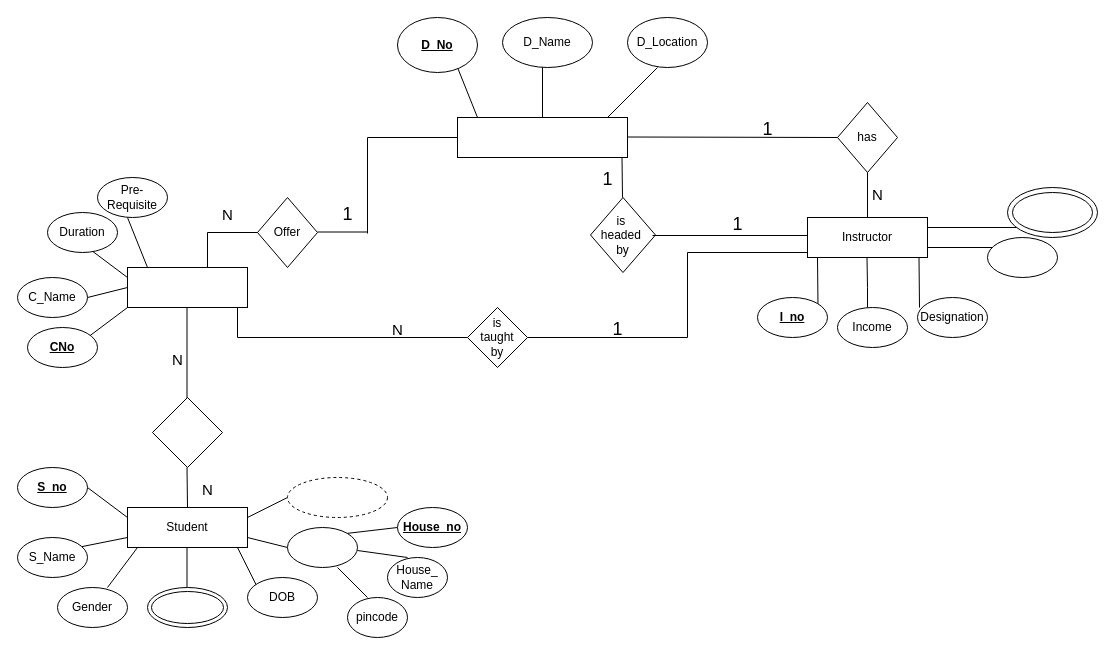
This 1115x655 diagram has some shape labels left out. The shapes that lost their labels are listed below. From the top down, each one's centre as x and y in pixels, then its label:
point (542, 137): Department
point (1052, 212): Mobile_no
point (1022, 257): Room_no
point (187, 287): Course
point (187, 432): Enrolled by
point (337, 497): Age
point (322, 547): Address
point (187, 607): Email
